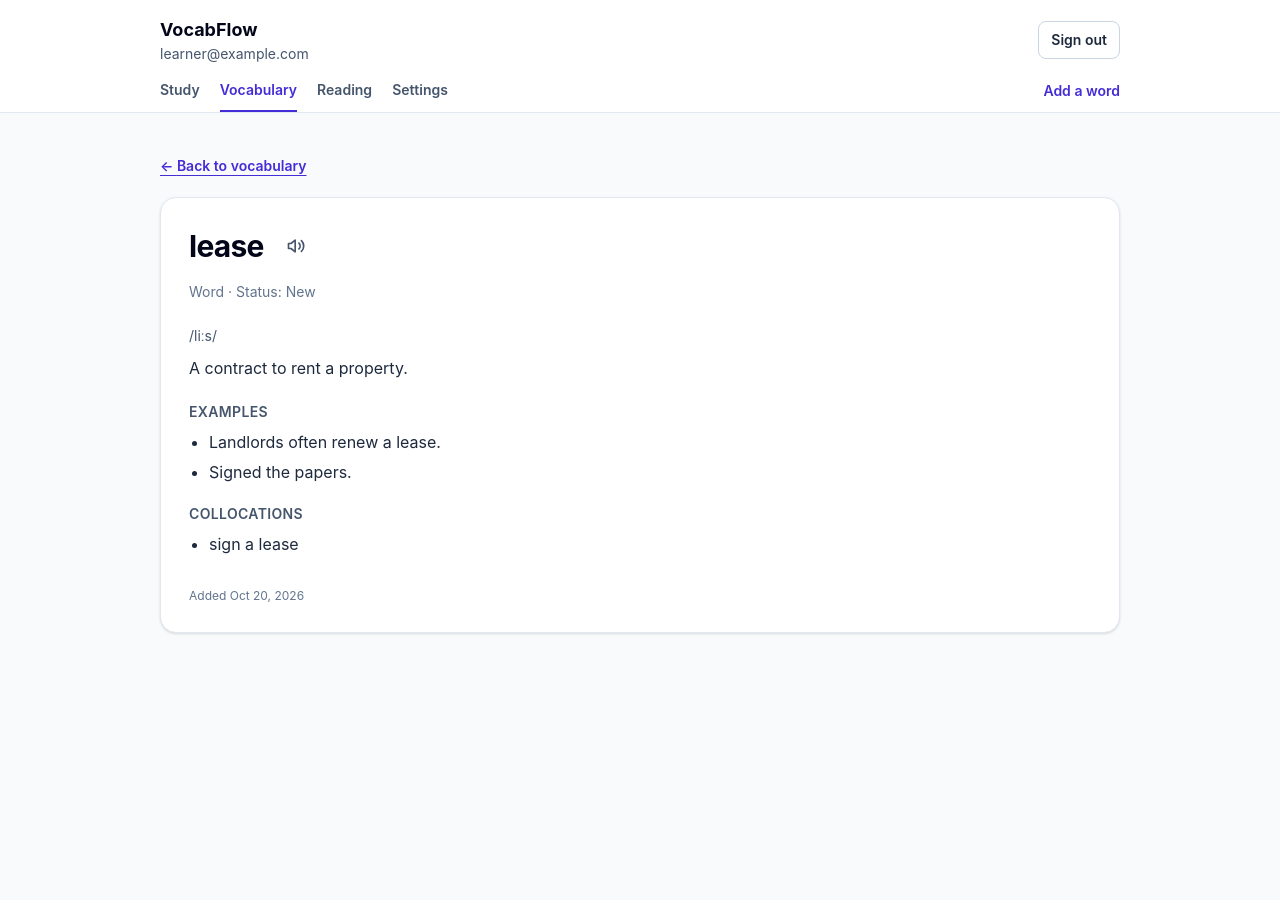
Test: tapping another word replaces the one in the panel
The image size is (1280, 900).
Click the text "rent". click: x=306, y=368
box: left=291, top=358, right=321, bottom=378
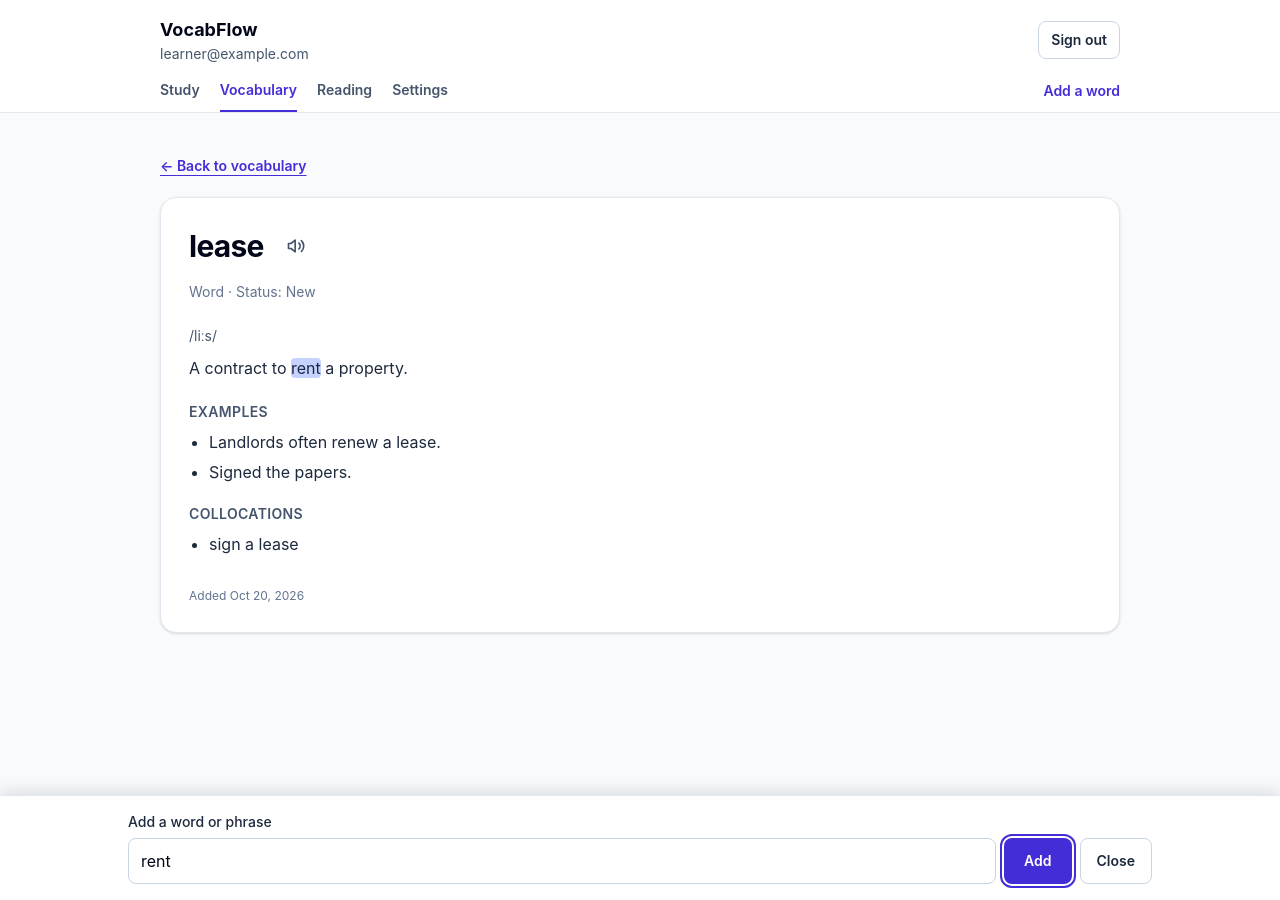
Click the text "property". click: x=371, y=368
box: left=339, top=358, right=403, bottom=378
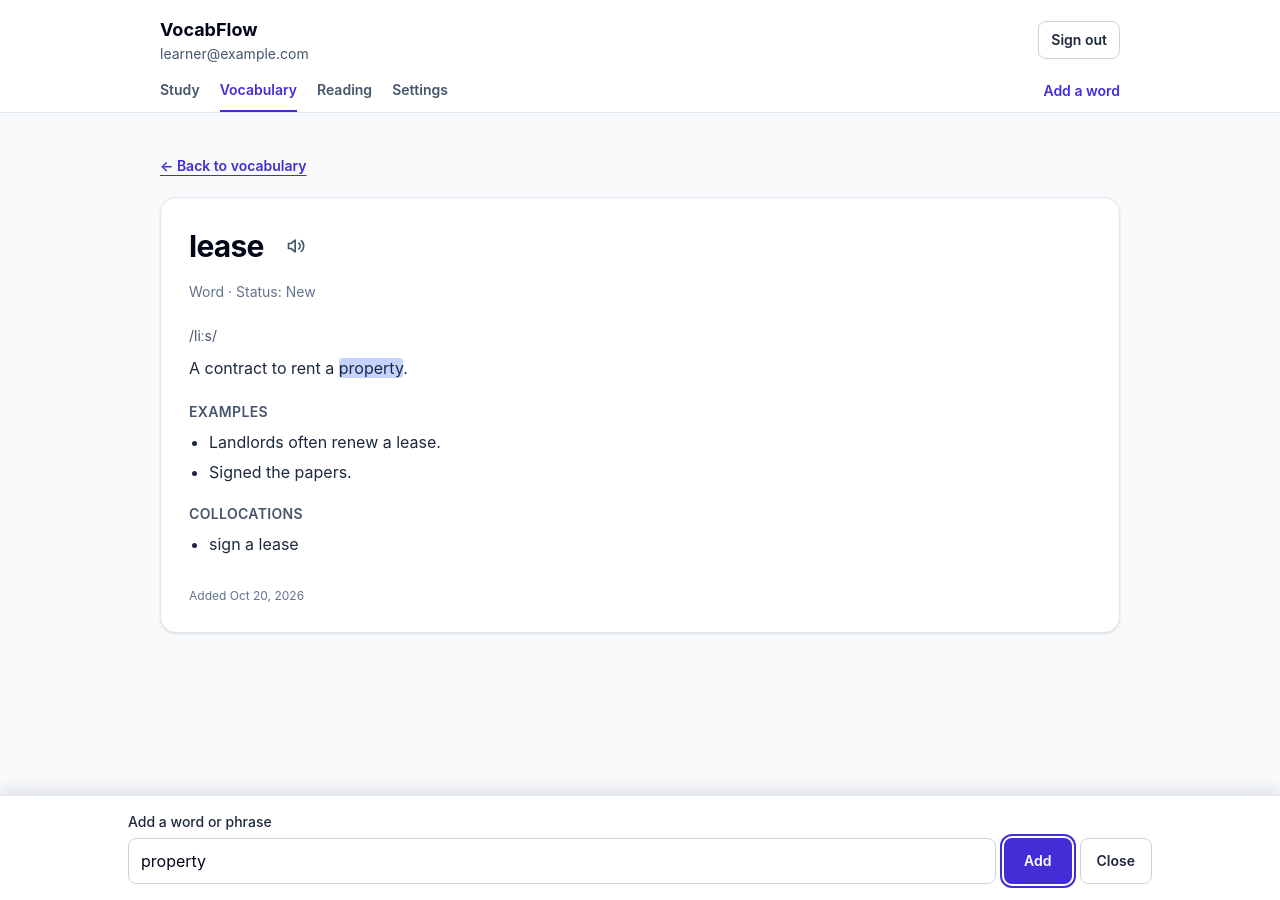
expect the number of dialogs is 1: met, box left=0, top=795, right=1279, bottom=899
expect the field labelled "Add a word or phrase" holds "property": met, box left=128, top=838, right=996, bottom=884
